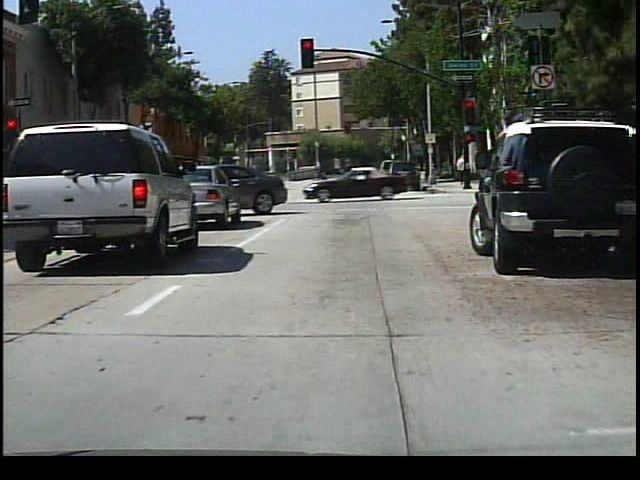person: (455, 149, 472, 189), (347, 158, 348, 200)
